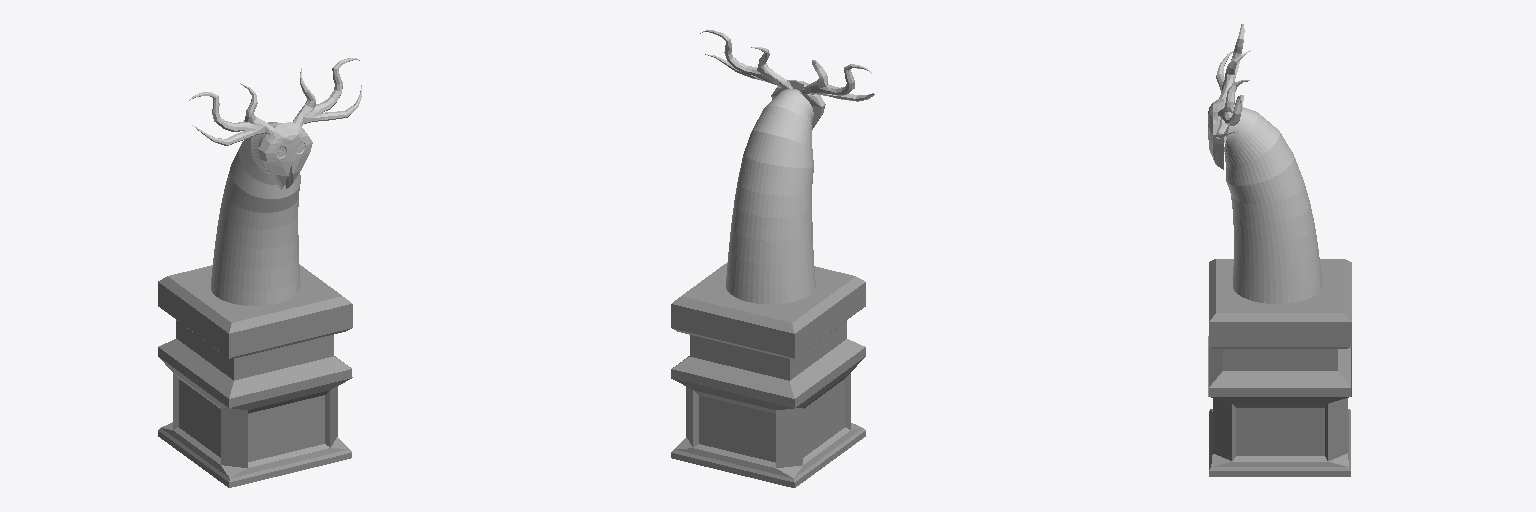
Rendered from statue.obj.
3 renders of one model, left to right at view 1: azimuth 30°, elevation 25°; view 2: azimuth 150°, elevation 25°; view 3: azimuth 270°, elevation 25°, orthographic.
Visible parts, largest first — view 1: Cube, Model_arm.001; view 2: Cube, Model_arm.001; view 3: Cube, Model_arm.001.
Boxes of the visible parts, x1,y1,x2,y2 form: Cube: [158, 264, 352, 487]; Model_arm.001: [189, 58, 361, 305]; Cube: [671, 262, 865, 487]; Model_arm.001: [700, 30, 874, 304]; Cube: [1208, 259, 1351, 476]; Model_arm.001: [1208, 24, 1322, 303].
Bounding box in the file's own units: 3.81 × 8.13 × 2.73.